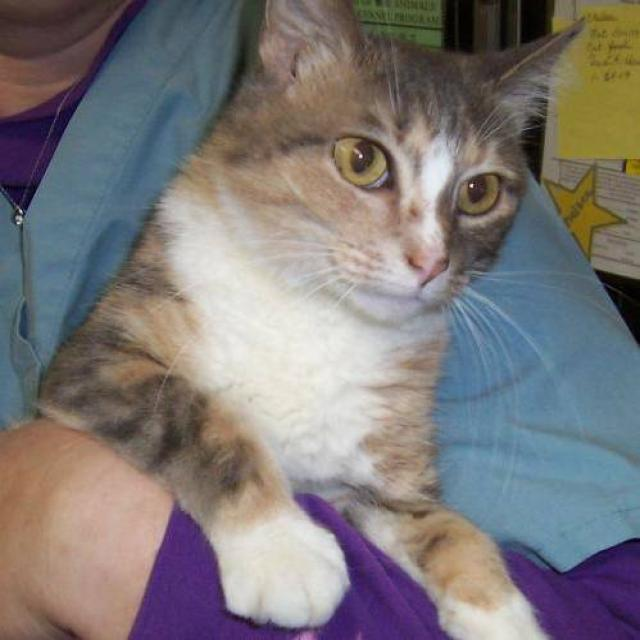Cat: (242, 0, 574, 347)
